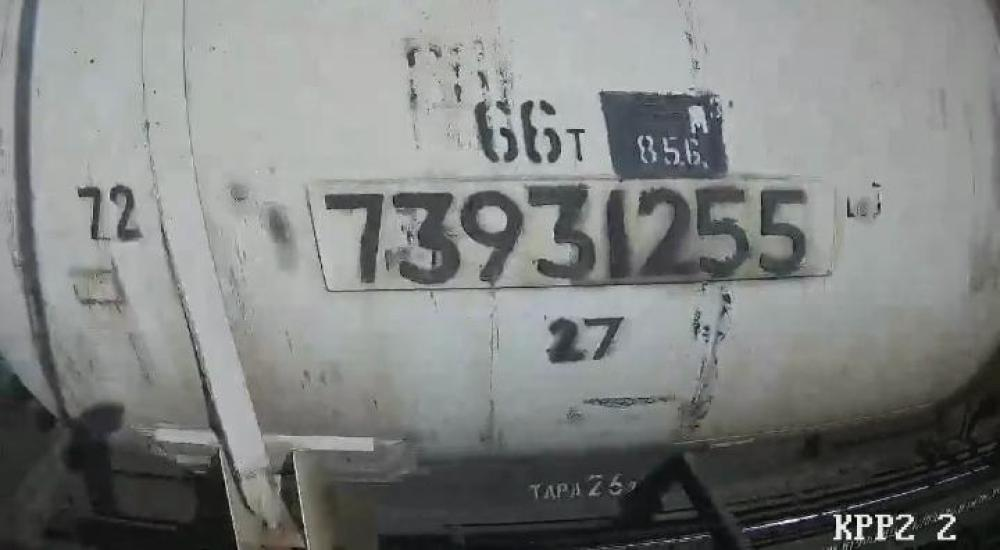Wagon-number: (318, 180, 818, 292)
